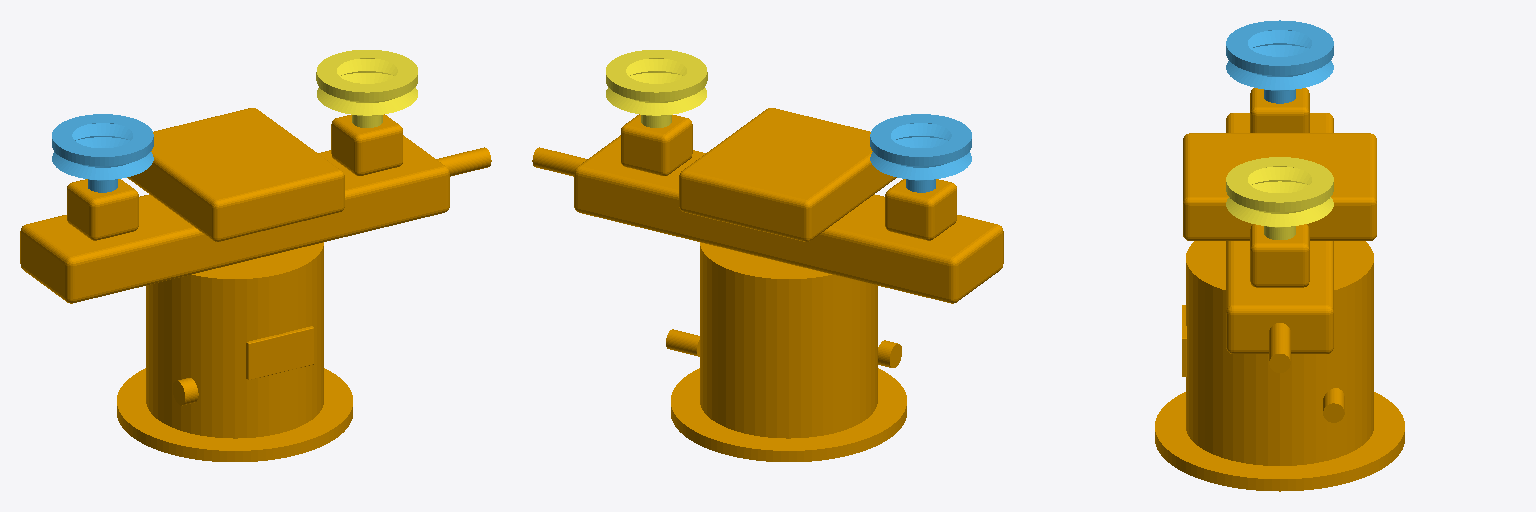
The robot description file, URDF, robot "piab_picobot_ur":
<?xml version="1.0"?>
<robot name="piab_picobot_ur">
<link name="mount"><visual ><geometry ><mesh filename="../meshes/mount.obj"/></geometry></visual><collision ><origin xyz="0 0 0.0025" rpy="0 0 0"/><geometry ><cylinder radius="0.0465" length="0.005"/></geometry></collision><collision ><origin xyz="0 0 0.0395" rpy="0 0 0"/><geometry ><cylinder radius="0.035" length="0.069"/></geometry></collision><collision ><origin xyz="0 0 0.093" rpy="0 0 0"/><geometry ><box size="0.174 0.072 0.038"/></geometry></collision></link>
<link name="cup_a"><visual ><geometry ><mesh filename="../meshes/cup_a.obj"/></geometry></visual><collision ><origin xyz="0 0 0.003" rpy="0 0 0"/><geometry ><cylinder radius="0.006" length="0.006"/></geometry></collision><collision ><origin xyz="0 0 0.014" rpy="0 0 0"/><geometry ><cylinder radius="0.02" length="0.016"/></geometry></collision></link>
<link name="cup_a_contact"></link>
<link name="cup_b"><visual ><geometry ><mesh filename="../meshes/cup_b.obj"/></geometry></visual><collision ><origin xyz="0 0 0.003" rpy="0 0 0"/><geometry ><cylinder radius="0.006" length="0.006"/></geometry></collision><collision ><origin xyz="0 0 0.014" rpy="0 0 0"/><geometry ><cylinder radius="0.02" length="0.016"/></geometry></collision></link>
<link name="cup_b_contact"></link>
<link name="tcp"></link>
<joint name="cup_a_joint" type="fixed"><parent link="mount"/><child link="cup_a"/><origin xyz="-0.06 0 0.112" rpy="0 0 0"/></joint>
<joint name="cup_a_contact_joint" type="fixed"><parent link="cup_a"/><child link="cup_a_contact"/><origin xyz="0 0 0.022" rpy="0 0 0"/></joint>
<joint name="cup_b_joint" type="fixed"><parent link="mount"/><child link="cup_b"/><origin xyz="0.06 0 0.112" rpy="0 0 0"/></joint>
<joint name="cup_b_contact_joint" type="fixed"><parent link="cup_b"/><child link="cup_b_contact"/><origin xyz="0 0 0.022" rpy="0 0 0"/></joint>
<joint name="tcp_joint" type="fixed"><parent link="mount"/><child link="tcp"/><origin xyz="0 0 0.134" rpy="0 0 0"/></joint>
</robot>

--- Render facts (derived) ---
The picture shows the robot from 3 angles, left to right: view 1: azimuth 30°, elevation 25°; view 2: azimuth 150°, elevation 25°; view 3: azimuth 270°, elevation 25°; orthographic projection.
Model piab_picobot_ur with 6 links and 5 joints (5 fixed), rooted at mount, posed every joint at zero.
Links seen in each view (by area): view 1: mount, cup_a, cup_b; view 2: mount, cup_a, cup_b; view 3: mount, cup_b, cup_a.
Boxes of the visible links, x1=… form: mount: x1=20, y1=108, x2=491, y2=461; cup_a: x1=52, y1=114, x2=153, y2=192; cup_b: x1=316, y1=50, x2=417, y2=127; mount: x1=532, y1=108, x2=1003, y2=461; cup_a: x1=870, y1=114, x2=971, y2=192; cup_b: x1=606, y1=50, x2=707, y2=127; mount: x1=1155, y1=88, x2=1404, y2=491; cup_b: x1=1226, y1=157, x2=1333, y2=239; cup_a: x1=1226, y1=20, x2=1333, y2=103.
Bounding box of the posed robot: 0.201 × 0.093 × 0.134 m (x, y, z).
3 mesh visuals loaded from 3 distinct referenced files (3 OBJ).
